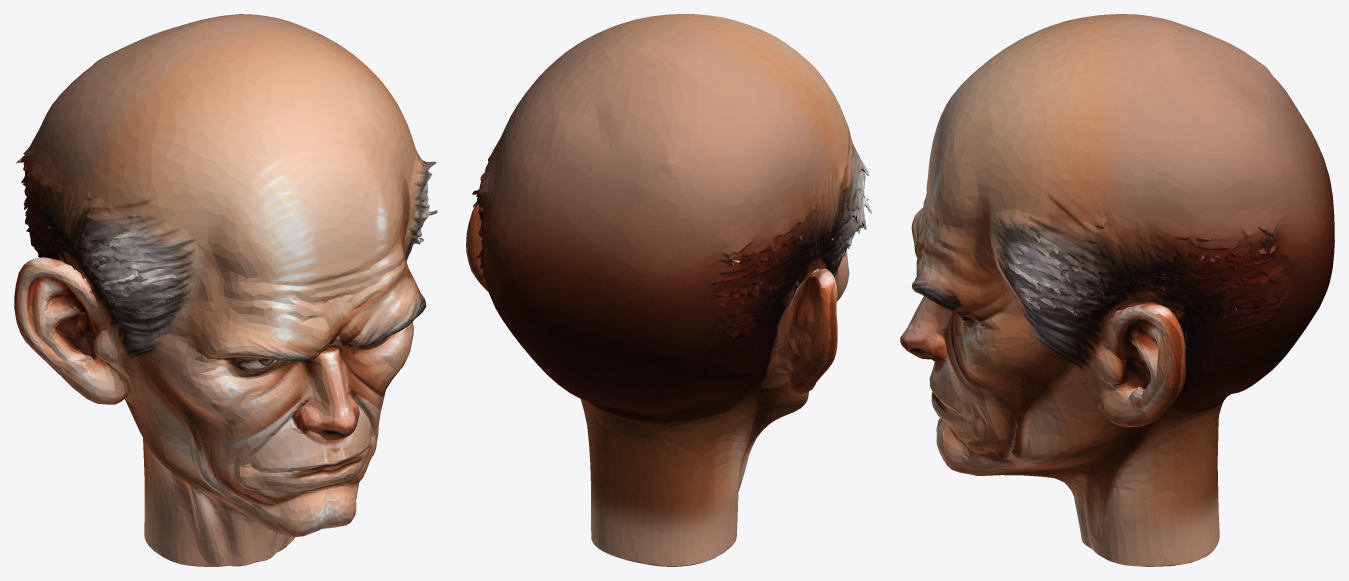
Rendered from side_oldpilgrim_repaired_atlas.glb.
3 renders of one model, left to right at view 1: azimuth 30°, elevation 25°; view 2: azimuth 150°, elevation 25°; view 3: azimuth 270°, elevation 25°, orthographic. The views are drawn at different scales.
Visible parts, largest first — view 1: temp_mesh.ply; view 2: temp_mesh.ply; view 3: temp_mesh.ply.
Boxes of the visible parts, x1,y1,x2,y2 form: temp_mesh.ply: (14, 14, 437, 566); temp_mesh.ply: (466, 14, 871, 566); temp_mesh.ply: (900, 14, 1334, 566).
Size of the model in its own units: 1.54 by 1.97 by 1.54.
1 material, 1 textured.
